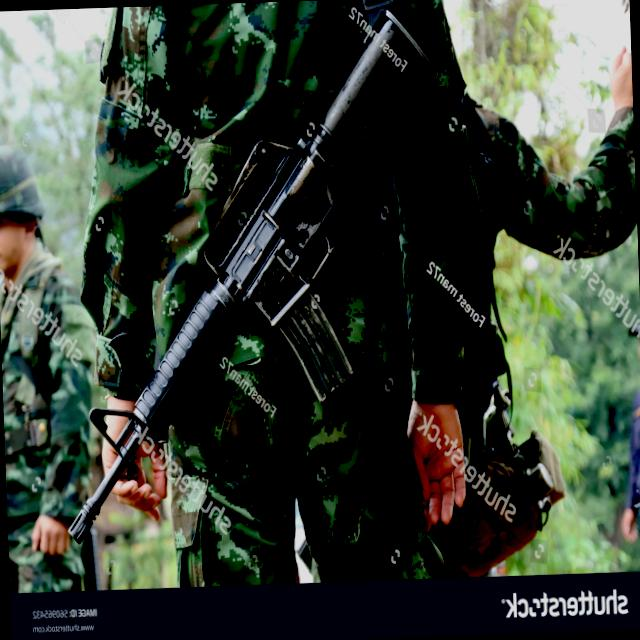m16: (64, 24, 478, 502)
